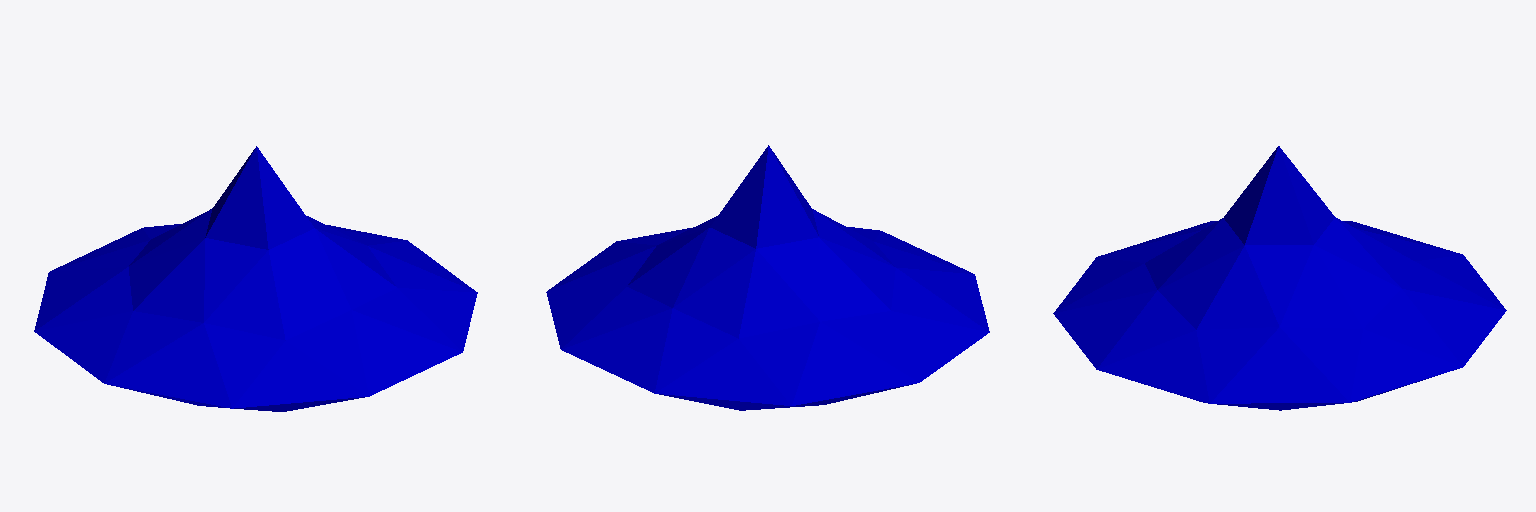
Rendered from ennemi1.obj.
3 renders of one model, left to right at view 1: azimuth 30°, elevation 25°; view 2: azimuth 150°, elevation 25°; view 3: azimuth 270°, elevation 25°, orthographic.
Visible parts, largest first — view 1: Icosphere; view 2: Icosphere; view 3: Icosphere.
Boxes of the visible parts, box(x1,y1,x2,y2) form: Icosphere: box(34, 146, 477, 411); Icosphere: box(546, 145, 989, 410); Icosphere: box(1053, 146, 1506, 410).
Bounding box in the file's own units: 1.9 × 1.08 × 2.